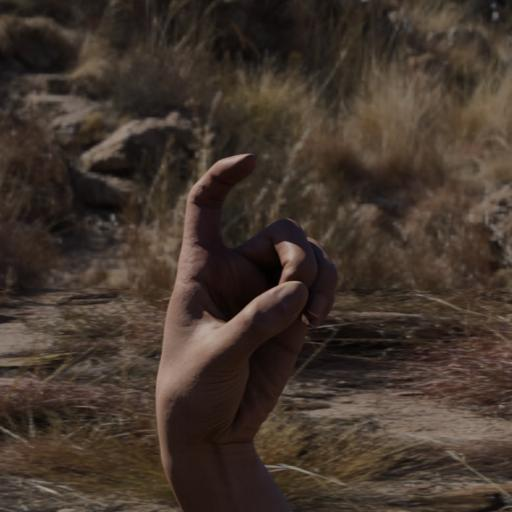X: (149, 142, 344, 457)
